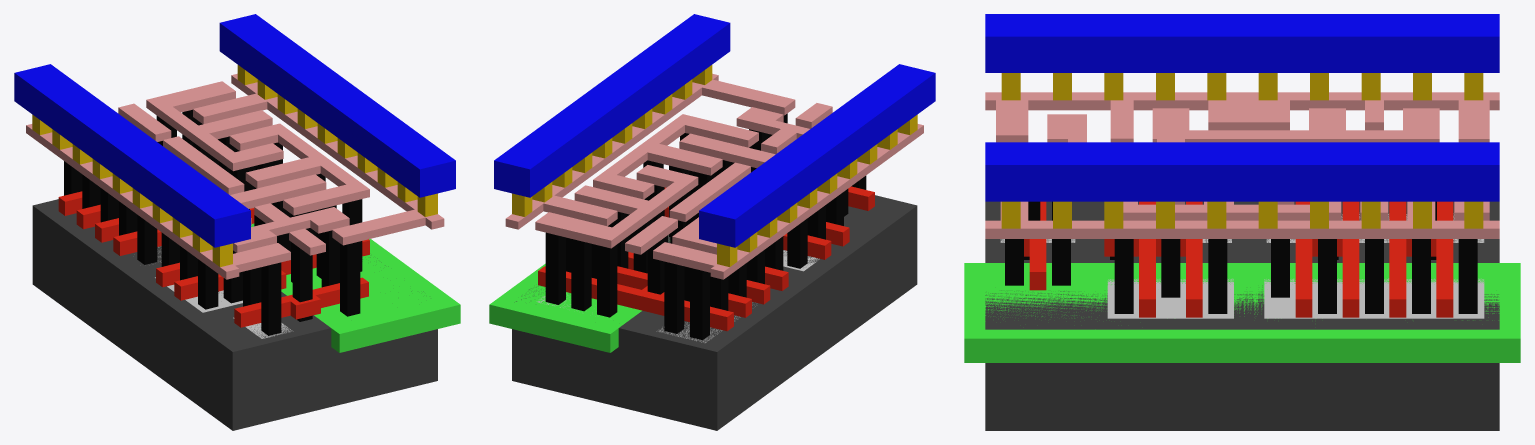
The model's file is sky130_fd_sc_hd__nor3b_2.obj.
3 views of the same model, side by side, from view 1: azimuth 30°, elevation 25°; view 2: azimuth 150°, elevation 25°; view 3: azimuth 270°, elevation 25° (orthographic). The views are drawn at different scales.
Visible parts, largest first — view 1: subs, metal1, li, licon, nwell, poly, mcon, diff; view 2: subs, metal1, li, licon, poly, nwell, mcon, diff; view 3: metal1, subs, li, nwell, licon, poly, mcon, tap.
Boxes of the visible parts, <box> form: subs: <box>32,199,437,430</box>; metal1: <box>14,14,455,247</box>; li: <box>26,73,444,279</box>; licon: <box>64,109,362,335</box>; nwell: <box>251,223,460,352</box>; poly: <box>58,191,369,327</box>; mcon: <box>32,65,437,266</box>; diff: <box>155,247,293,338</box>; subs: <box>512,195,917,430</box>; metal1: <box>494,14,935,247</box>; li: <box>505,73,923,279</box>; licon: <box>545,113,866,339</box>; poly: <box>538,186,874,331</box>; nwell: <box>489,240,669,352</box>; mcon: <box>512,65,917,266</box>; diff: <box>656,250,819,342</box>; metal1: <box>985,14,1499,201</box>; subs: <box>985,201,1499,430</box>; li: <box>985,92,1499,238</box>; nwell: <box>964,263,1520,362</box>; licon: <box>1005,201,1477,313</box>; poly: <box>1024,201,1453,317</box>; mcon: <box>1001,73,1483,228</box>; tap: <box>1107,278,1484,318</box>.
Size of the model in its own units: 3.2 by 2.74 by 4.98.
